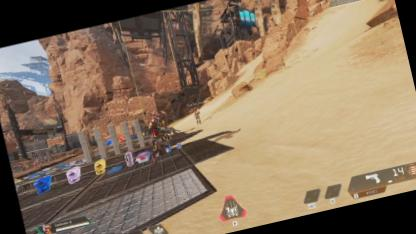Target: (142, 110, 176, 163)
